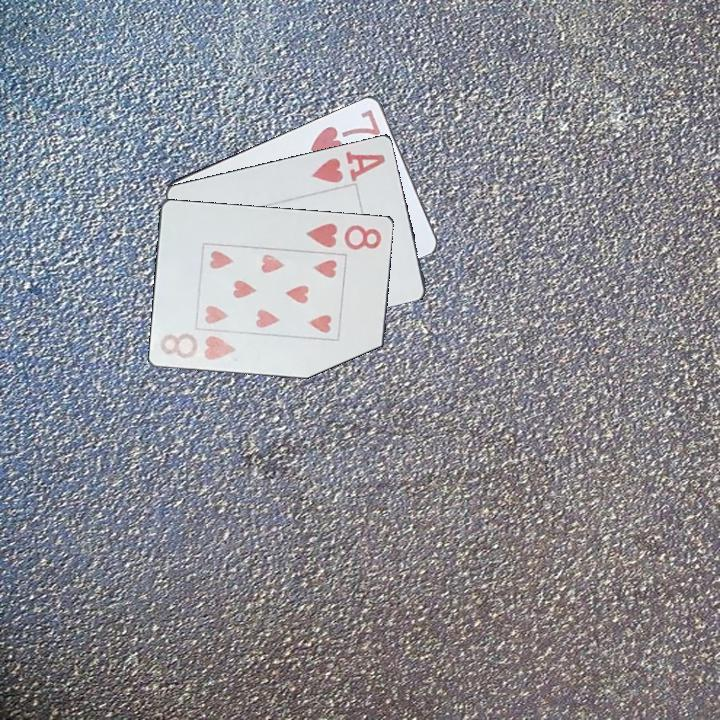7h: (307, 105, 383, 158)
8h: (156, 329, 239, 363), (303, 219, 385, 253)
Ah: (308, 147, 388, 185)
